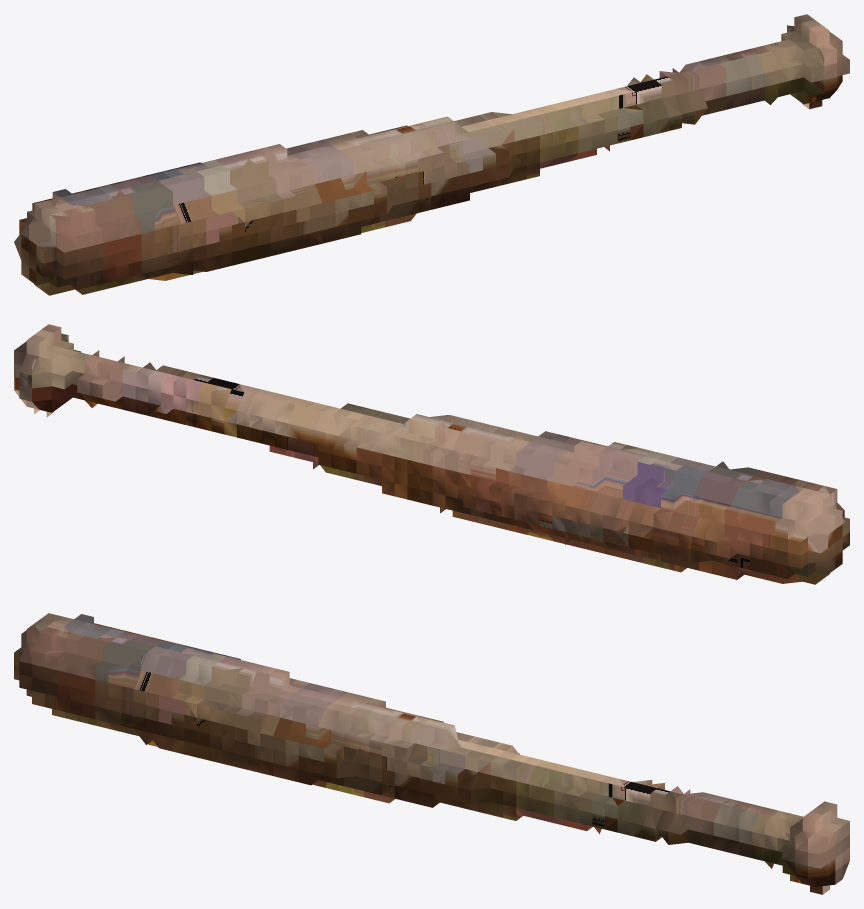
Rendered from simplified_bat.glb.
3 renders of one model, top to bottom at view 1: azimuth 30°, elevation 25°; view 2: azimuth 150°, elevation 25°; view 3: azimuth 330°, elevation 25°, orthographic.
Visible parts, largest first — view 1: Mesh1; view 2: Mesh1; view 3: Mesh1.
Part boxes in pixels (x1=…): Mesh1: x1=14, y1=14, x2=849, y2=295; Mesh1: x1=14, y1=324, x2=849, y2=584; Mesh1: x1=14, y1=613, x2=849, y2=894.
Size of the model in its own units: 1.2 by 0.1333 by 0.1333.
1 material, 1 textured.
